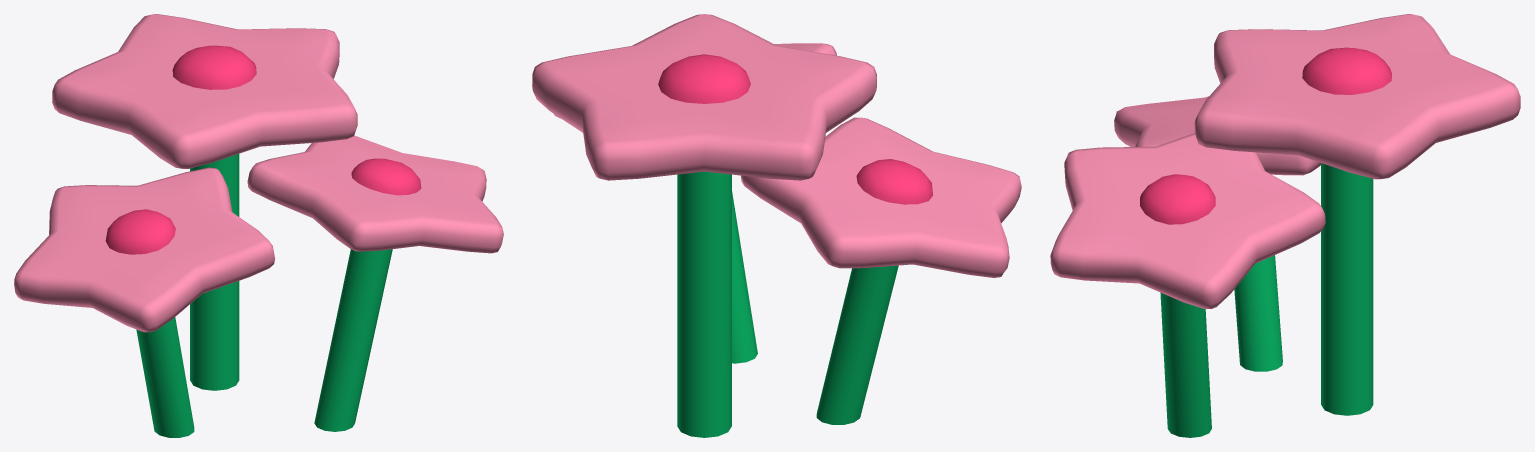
Rendered from Farm_3_Flowers_2.glb.
3 views of the same model, side by side, from view 1: azimuth 30°, elevation 25°; view 2: azimuth 150°, elevation 25°; view 3: azimuth 270°, elevation 25° (orthographic). The views are drawn at different scales.
Visible parts, largest first — view 1: Farm_3_Flowers_2; view 2: Farm_3_Flowers_2; view 3: Farm_3_Flowers_2.
Part boxes in pixels (x1,y1,x2,y2): Farm_3_Flowers_2: (14,14,503,437); Farm_3_Flowers_2: (532,14,1021,437); Farm_3_Flowers_2: (1050,14,1520,437).
Size of the model in its own units: 0.3502 by 0.2492 by 0.3031.
1 material, 1 textured.
